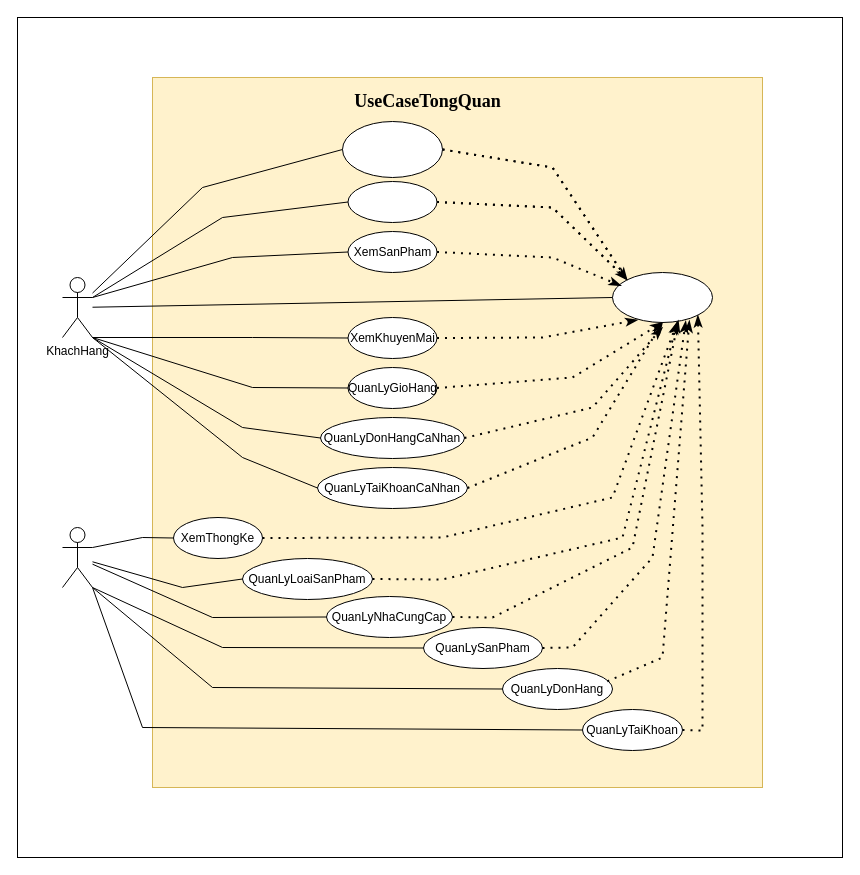
Image size: 860x875. Some labels were removed from this diagram. Each missing label, with the centre of its shape:
"DangKiThanhVien" belongs at (392,149).
"DangNhap" belongs at (662,297).
"NhanVien" belongs at (77,557).
"XemTrangChu" belongs at (392,201).
